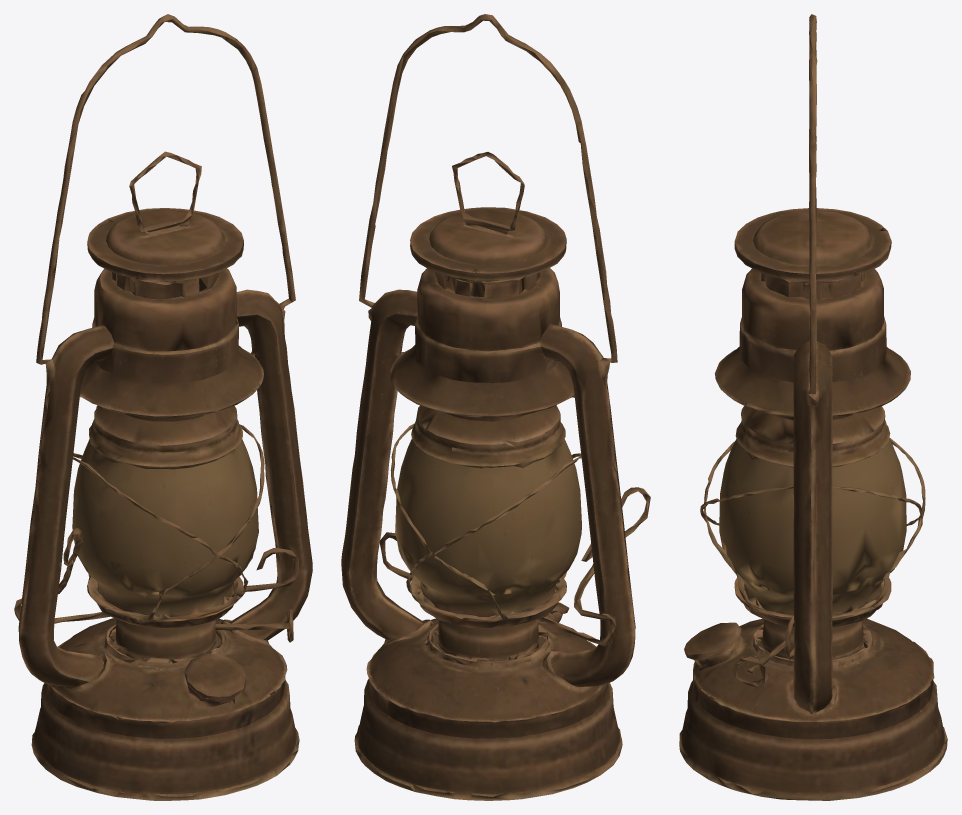
File: lantern_final.glb
The picture shows the model from 3 angles, left to right: view 1: azimuth 30°, elevation 25°; view 2: azimuth 150°, elevation 25°; view 3: azimuth 270°, elevation 25°; orthographic projection.
Parts seen in each view (by area): view 1: SM_Lantern; view 2: SM_Lantern; view 3: SM_Lantern.
Boxes of the visible parts, box(x1,y1,x2,y2) form: SM_Lantern: box(14, 14, 312, 800); SM_Lantern: box(341, 14, 650, 800); SM_Lantern: box(679, 14, 947, 800).
Bounding box in the file's own units: 0.1592 × 0.3801 × 0.1266.
1 material, 1 textured.
